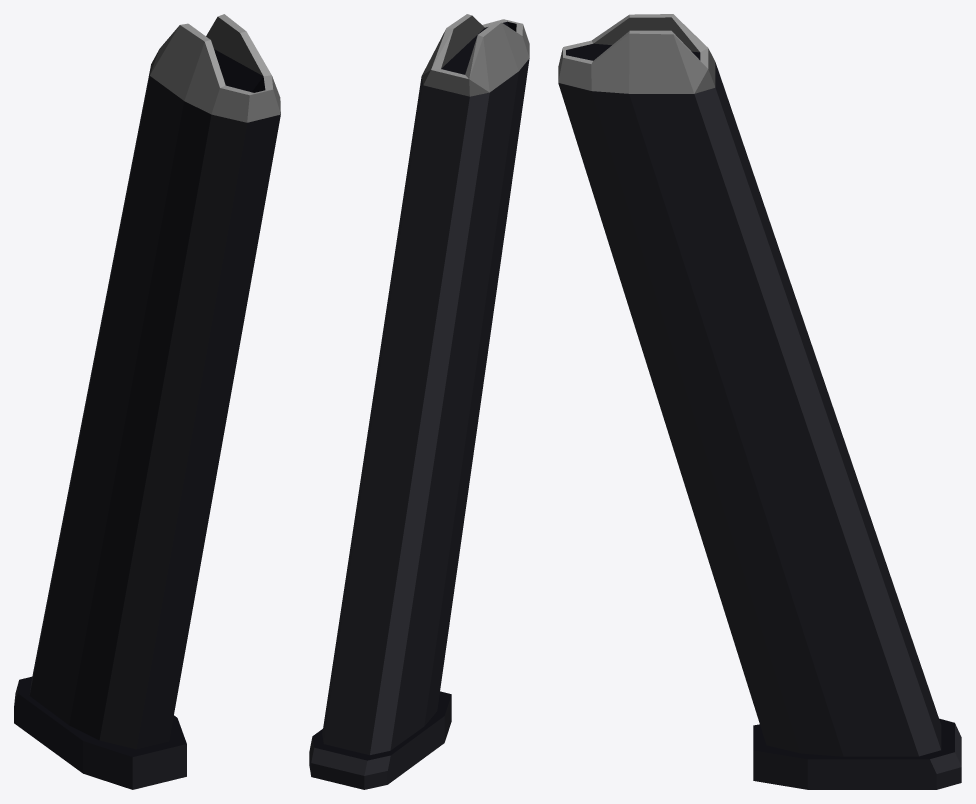
The model's file is MW1_Magazine_9mm_02.fbx.
3 renders of one model, left to right at view 1: azimuth 30°, elevation 25°; view 2: azimuth 150°, elevation 25°; view 3: azimuth 270°, elevation 25°, orthographic. The views are drawn at different scales.
Visible parts, largest first — view 1: Magazine_9mm_02; view 2: Magazine_9mm_02; view 3: Magazine_9mm_02.
Part boxes in pixels (x1=…): Magazine_9mm_02: x1=14, y1=14, x2=280, y2=789; Magazine_9mm_02: x1=309, y1=14, x2=529, y2=789; Magazine_9mm_02: x1=558, y1=14, x2=961, y2=789.
Bounding box in the file's own units: 2.59 × 20.76 × 10.21.
